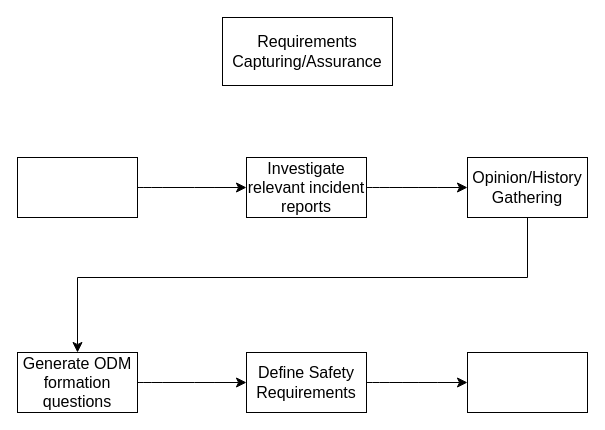
Image size: 605x430. Some labels were removed from this diagram. The shapes that lost their labels are listed below. From the top down, each one's box as (x1, y1, x2, y2) in pixels, then its label:
(16, 156, 138, 218): Explore hazards from step 2
(466, 352, 588, 412): Generate Safe Opeation argument
